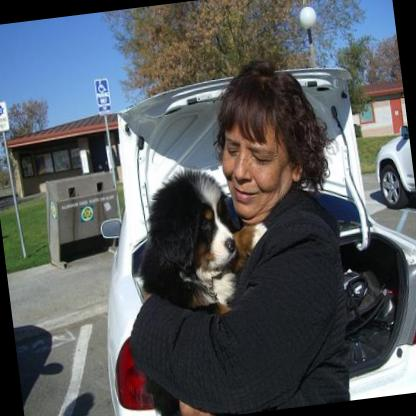Bernese_mountain_dog: (116, 157, 287, 416)
